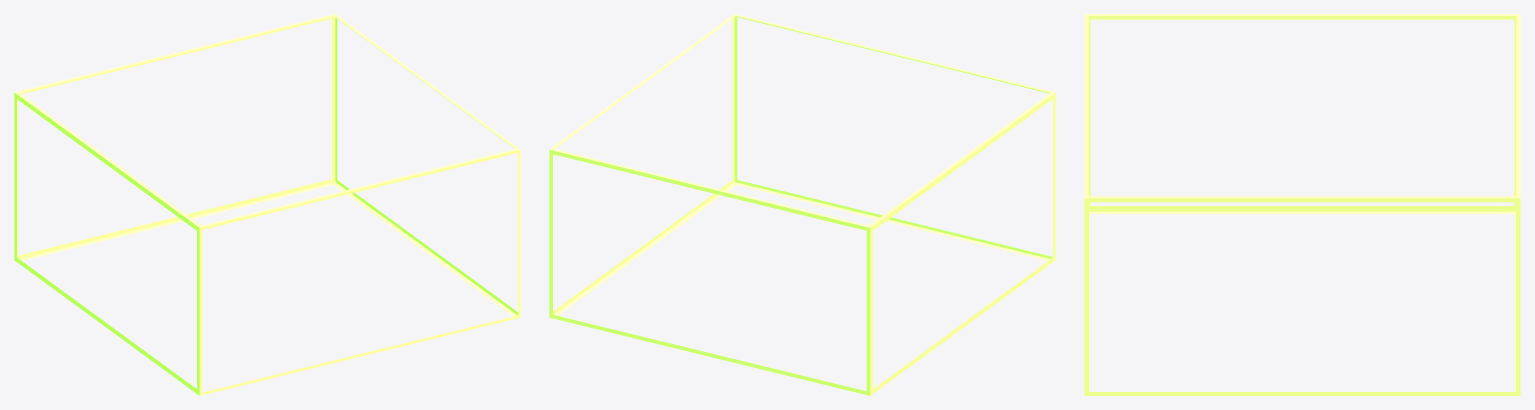
The model's file is r6c5_highlight_green.glb.
3 views of the same model, side by side, from view 1: azimuth 30°, elevation 25°; view 2: azimuth 150°, elevation 25°; view 3: azimuth 270°, elevation 25° (orthographic). The views are drawn at different scales.
Visible parts, largest first — view 1: r6c5_collider; view 2: r6c5_collider; view 3: r6c5_collider.
Part boxes in pixels (x1,y1,x2,y2): r6c5_collider: [14, 14, 520, 395]; r6c5_collider: [549, 14, 1055, 395]; r6c5_collider: [1084, 14, 1520, 395].
Size of the model in its own units: 2 by 1 by 2.
